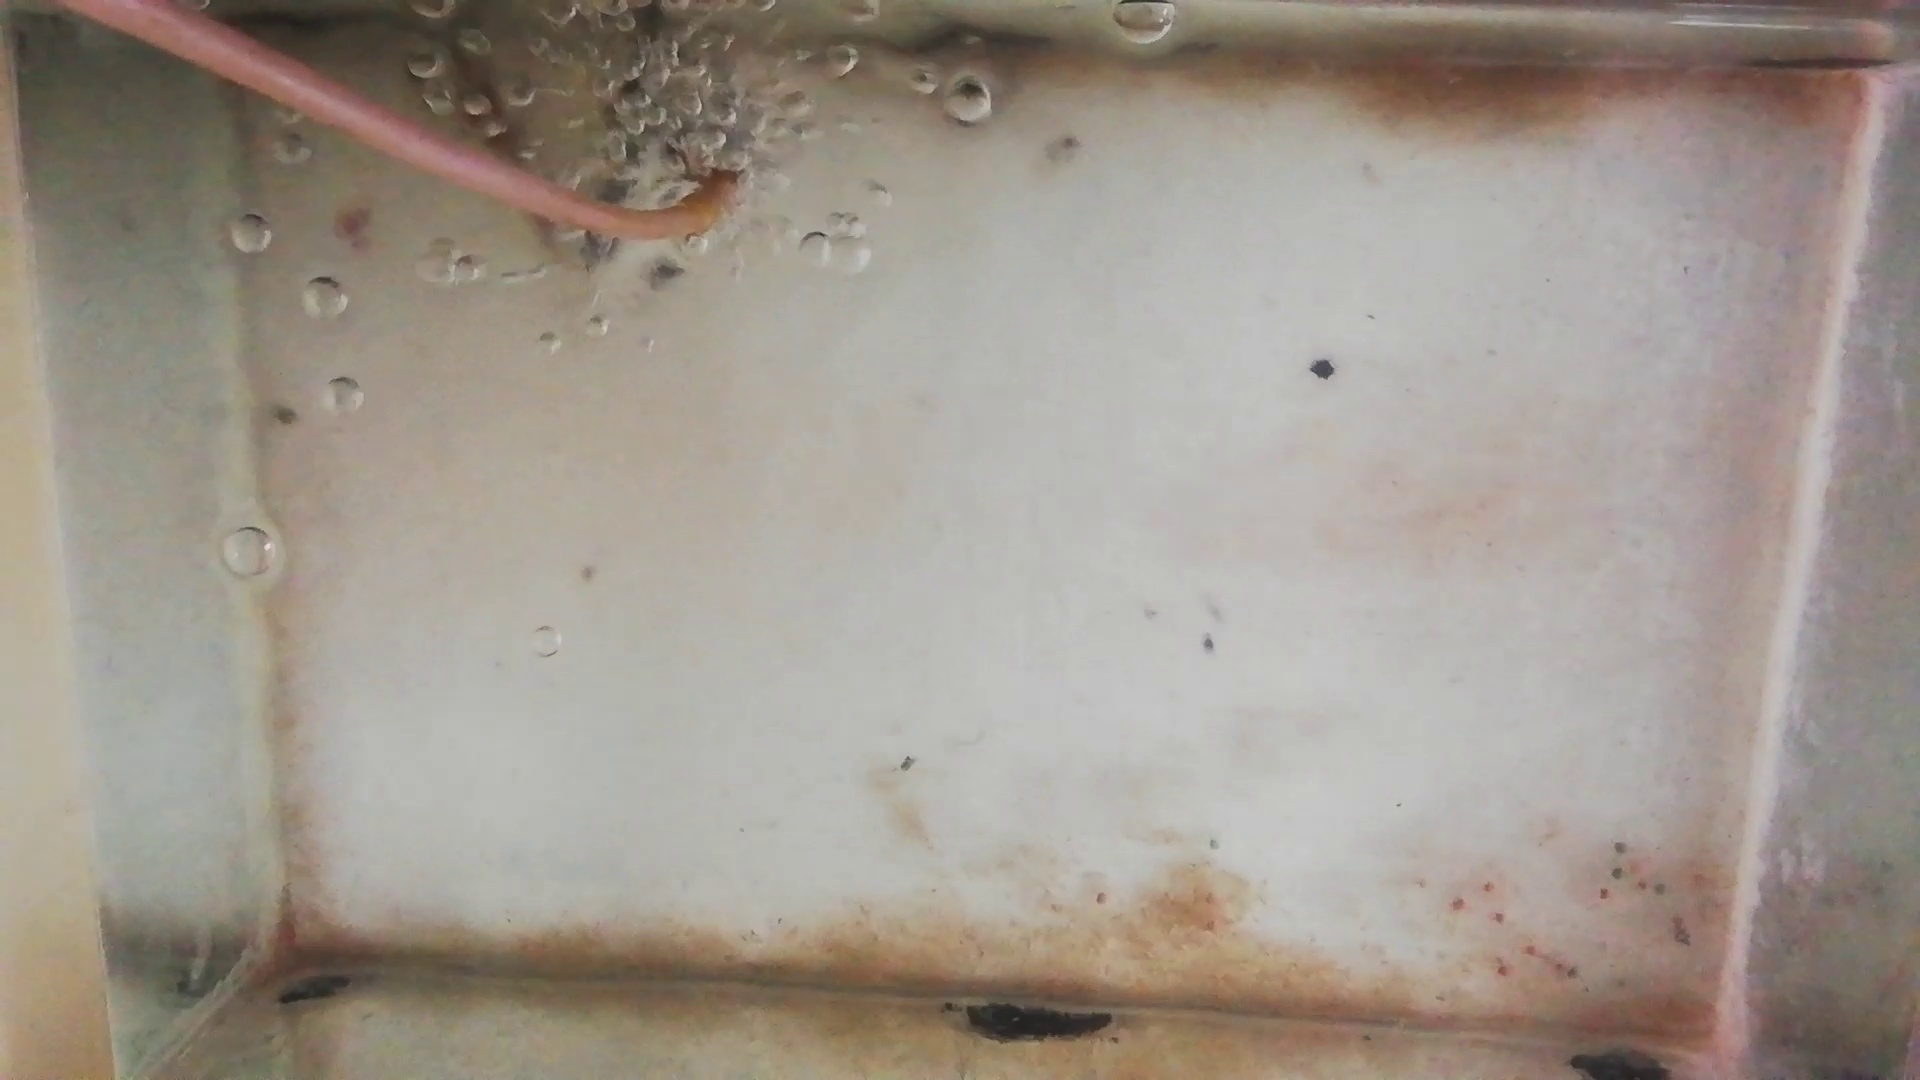fish: (414, 18, 533, 175), (589, 29, 655, 273)
